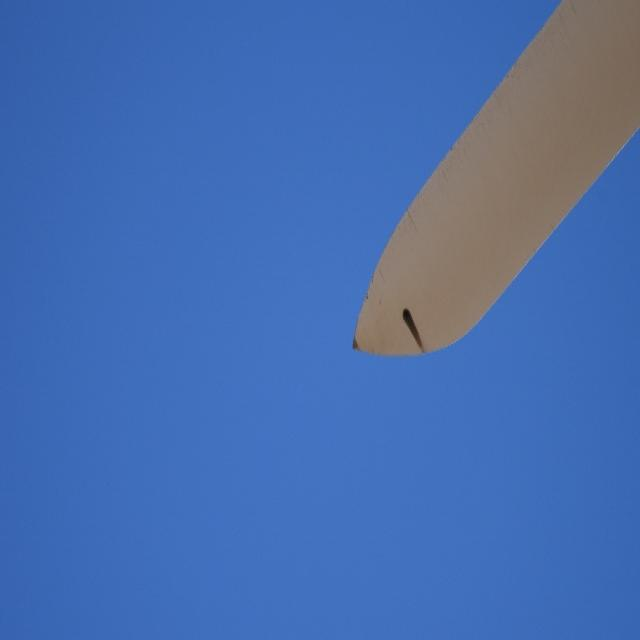Burn Mark: (402, 305, 424, 352)
